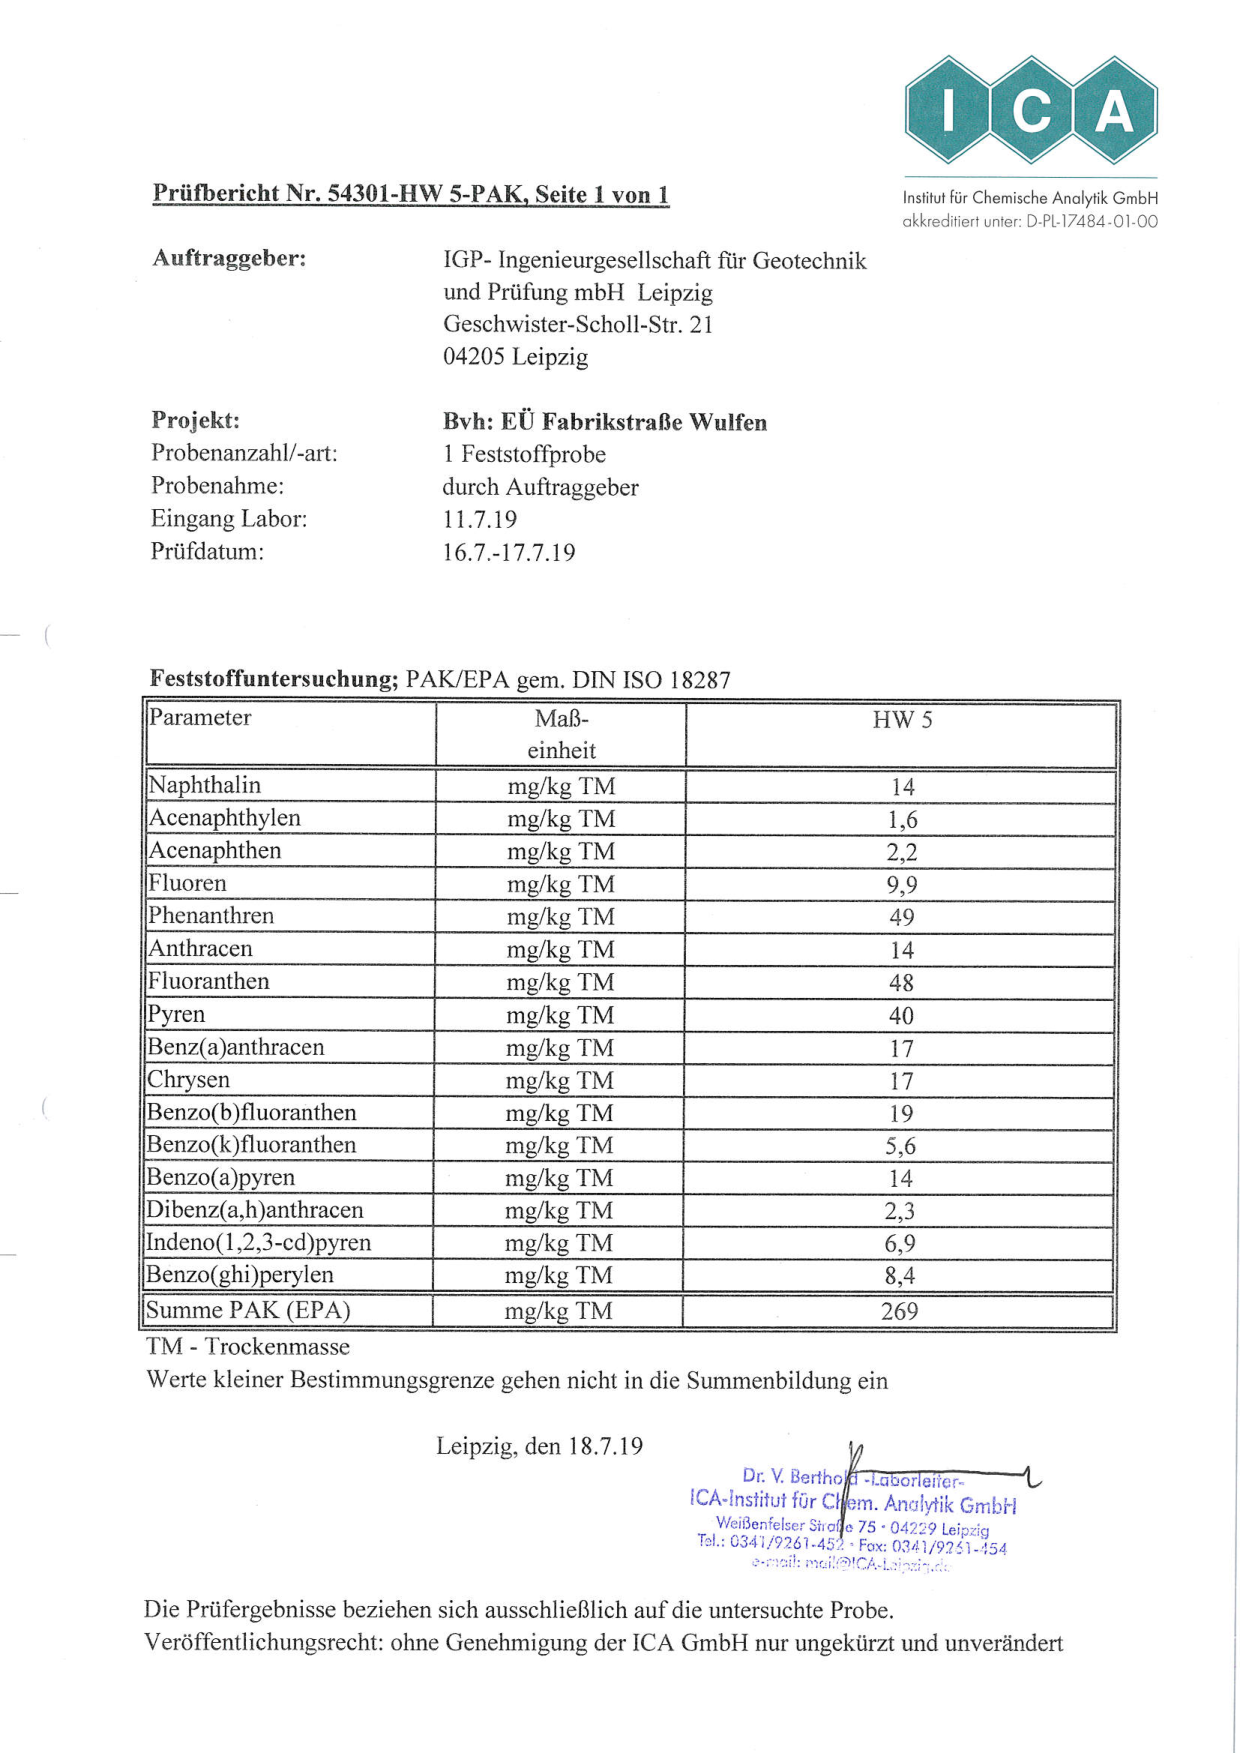table: (115, 664, 1127, 1362)
